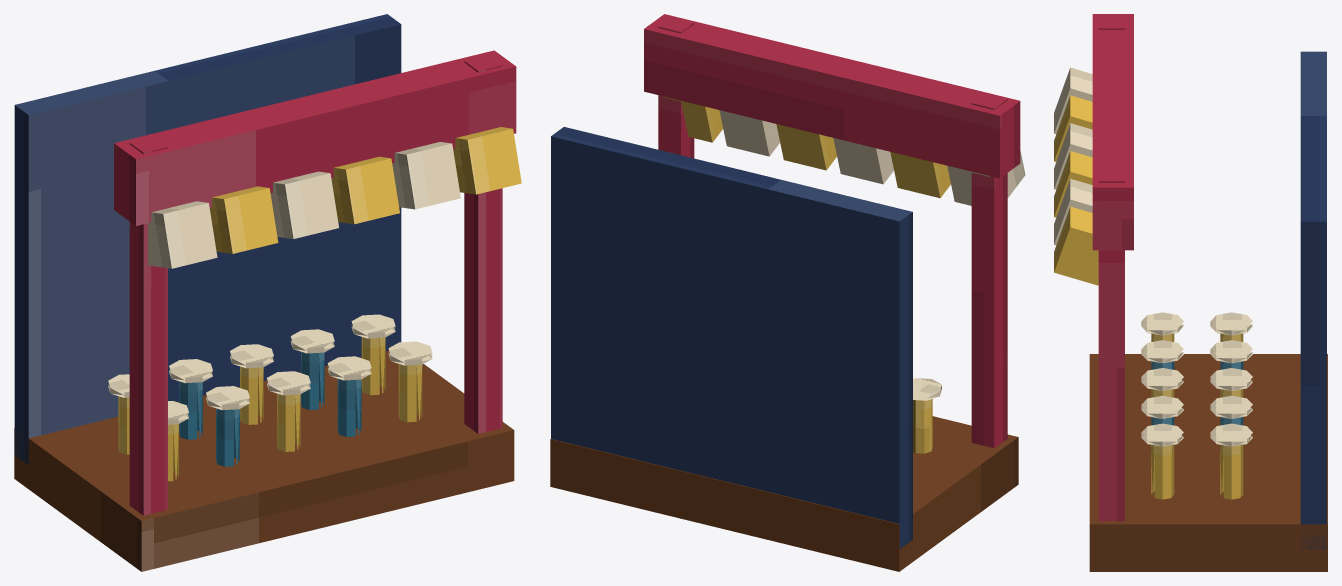
File: ring_toss_stall.glb
3 renders of one model, left to right at view 1: azimuth 30°, elevation 25°; view 2: azimuth 150°, elevation 25°; view 3: azimuth 270°, elevation 25°, orthographic. The views are drawn at different scales.
Parts seen in each view (by area): view 1: StallBack, StallDeck, StallHeader, StallPost, StallPost.001, Awning_0, Awning_3, Awning_4, Awning_5, Awning_1, Awning_2, Bottle_0_4 (+16 smaller); view 2: StallBack, StallHeader, StallDeck, StallPost, StallPost.001, Awning_2, Awning_4, Awning_1, Awning_3, Awning_5, Awning_0, Bottle_0_0; view 3: StallDeck, StallBack, StallHeader, StallPost.001, Awning_5, Bottle_1_4, Bottle_0_4, Awning_2, Awning_1, Awning_3, Awning_4, Awning_0 (+10 smaller).
Part boxes in pixels (x1=…): StallBack: x1=14, y1=14, x2=401, y2=464; StallDeck: x1=14, y1=350, x2=514, y2=571; StallHeader: x1=114, y1=50, x2=516, y2=225; StallPost: x1=129, y1=136, x2=167, y2=515; StallPost.001: x1=464, y1=55, x2=502, y2=433; Awning_0: x1=148, y1=201, x2=217, y2=268; Awning_3: x1=331, y1=156, x2=399, y2=224; Awning_4: x1=392, y1=142, x2=460, y2=209; Awning_5: x1=453, y1=127, x2=521, y2=194; Awning_1: x1=209, y1=186, x2=278, y2=253; Awning_2: x1=270, y1=171, x2=338, y2=238; Bottle_0_4: x1=398, y1=364, x2=422, y2=422; StallBack: x1=551, y1=127, x2=912, y2=548; StallHeader: x1=644, y1=14, x2=1020, y2=178; StallDeck: x1=550, y1=416, x2=1018, y2=571; StallPost: x1=971, y1=93, x2=1007, y2=448; StallPost.001: x1=658, y1=17, x2=694, y2=158; Awning_2: x1=833, y1=138, x2=893, y2=184; Awning_4: x1=719, y1=110, x2=779, y2=156; Awning_1: x1=890, y1=152, x2=950, y2=198; Awning_3: x1=776, y1=124, x2=836, y2=170; Awning_5: x1=662, y1=96, x2=723, y2=142; Awning_0: x1=947, y1=151, x2=1025, y2=205; Bottle_0_0: x1=913, y1=399, x2=932, y2=453; StallDeck: x1=1089, y1=354, x2=1327, y2=571; StallBack: x1=1300, y1=51, x2=1326, y2=549; StallHeader: x1=1092, y1=14, x2=1133, y2=250; StallPost.001: x1=1098, y1=170, x2=1124, y2=521; Awning_5: x1=1054, y1=206, x2=1098, y2=285; Bottle_1_4: x1=1220, y1=445, x2=1243, y2=499; Bottle_0_4: x1=1151, y1=445, x2=1174, y2=499; Awning_2: x1=1054, y1=123, x2=1092, y2=189; Awning_1: x1=1054, y1=95, x2=1092, y2=161; Awning_3: x1=1054, y1=151, x2=1092, y2=217; Awning_4: x1=1054, y1=178, x2=1092, y2=245; Awning_0: x1=1054, y1=67, x2=1092, y2=133.
Bounding box in the file's own units: 2.5 × 2.6 × 1.67.
1 material, 1 textured.
